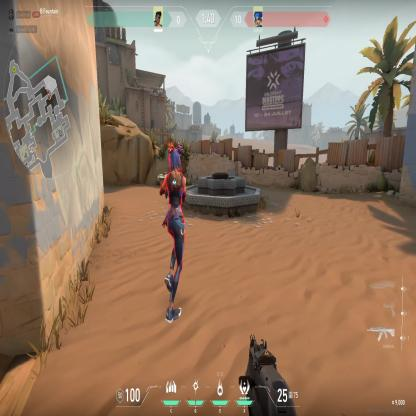enemy: (160, 139, 188, 329)
